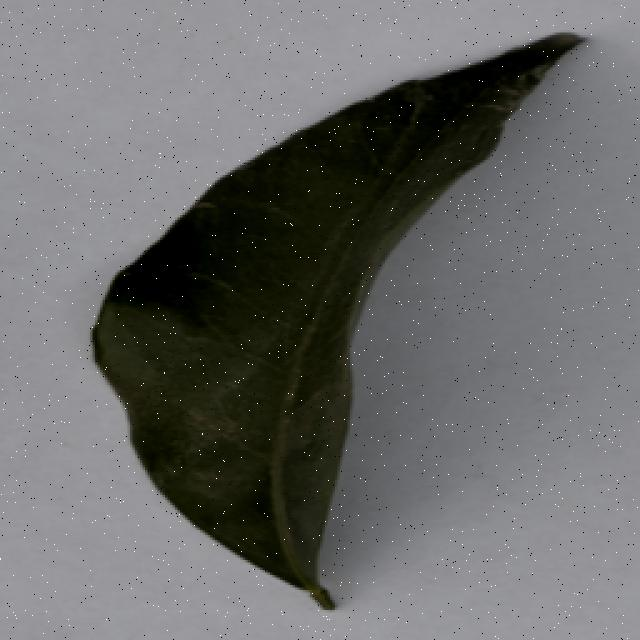healthy: (66, 23, 590, 621)
